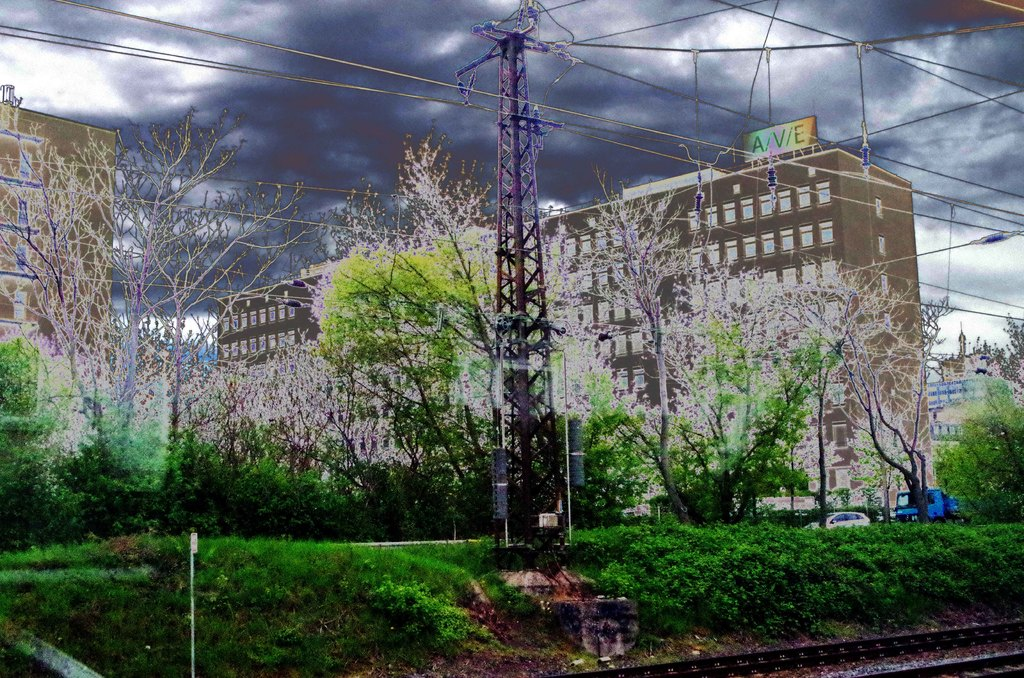Tree: (0, 104, 346, 533), (315, 118, 622, 538), (540, 158, 881, 526), (819, 268, 962, 524), (945, 353, 1024, 530), (956, 318, 1023, 403)
